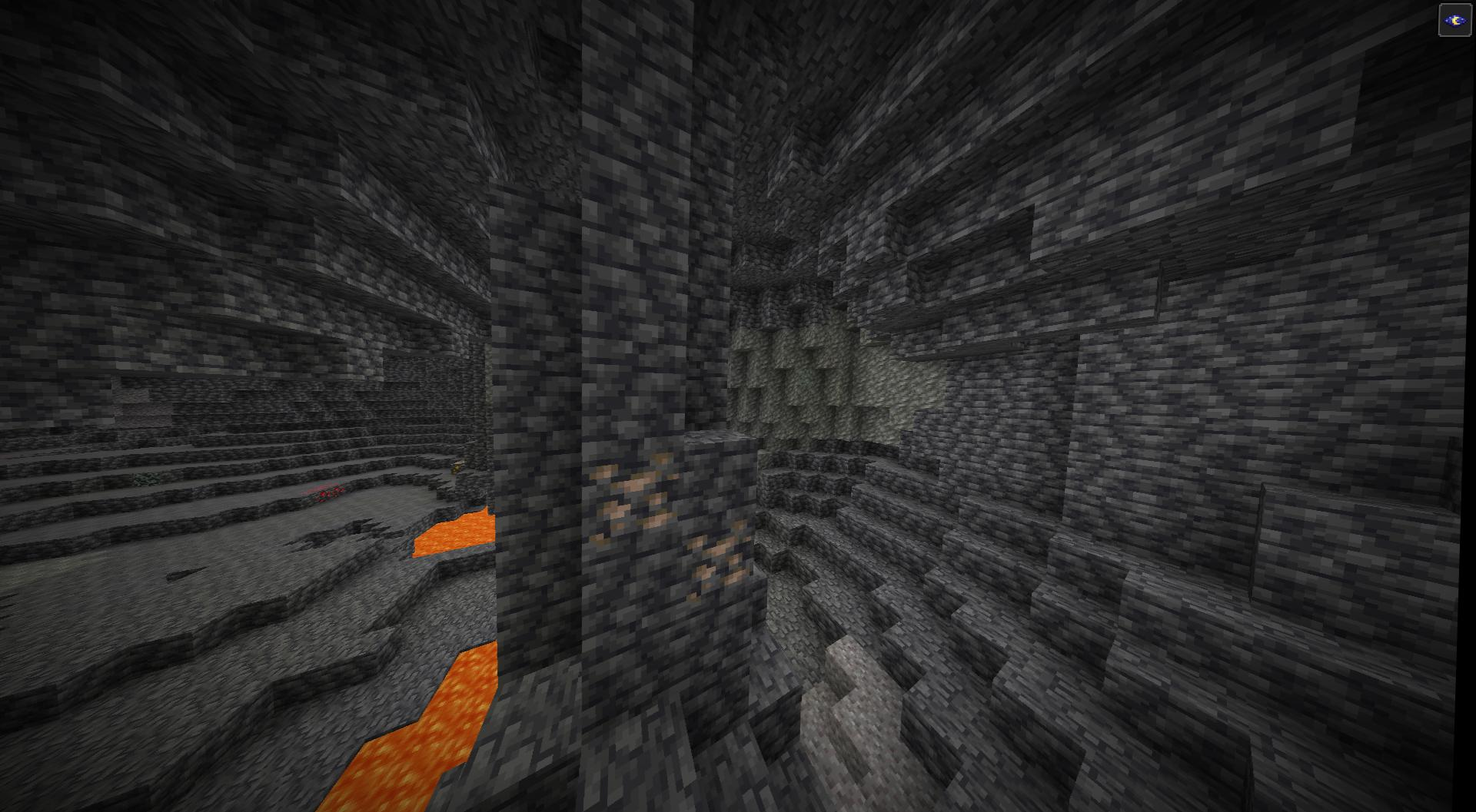iron ore: (585, 452, 685, 541), (690, 518, 758, 596)
redstone ore: (311, 483, 352, 507)
